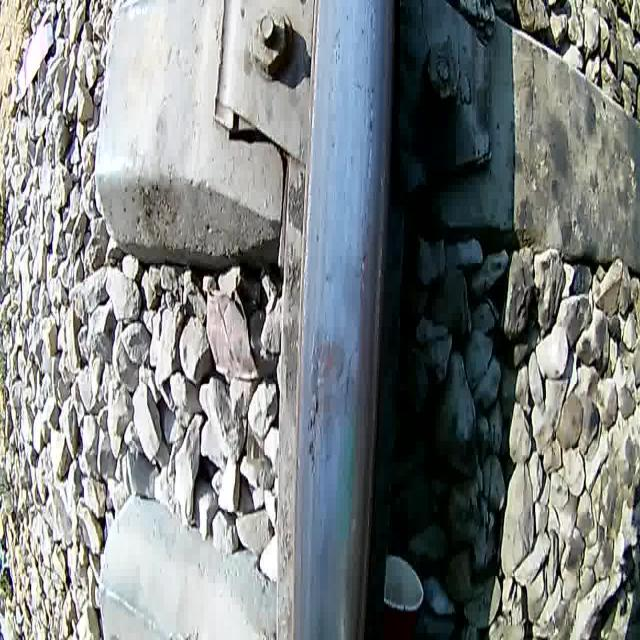Cracks: (304, 351, 323, 476)
Squats: (301, 328, 358, 475)
